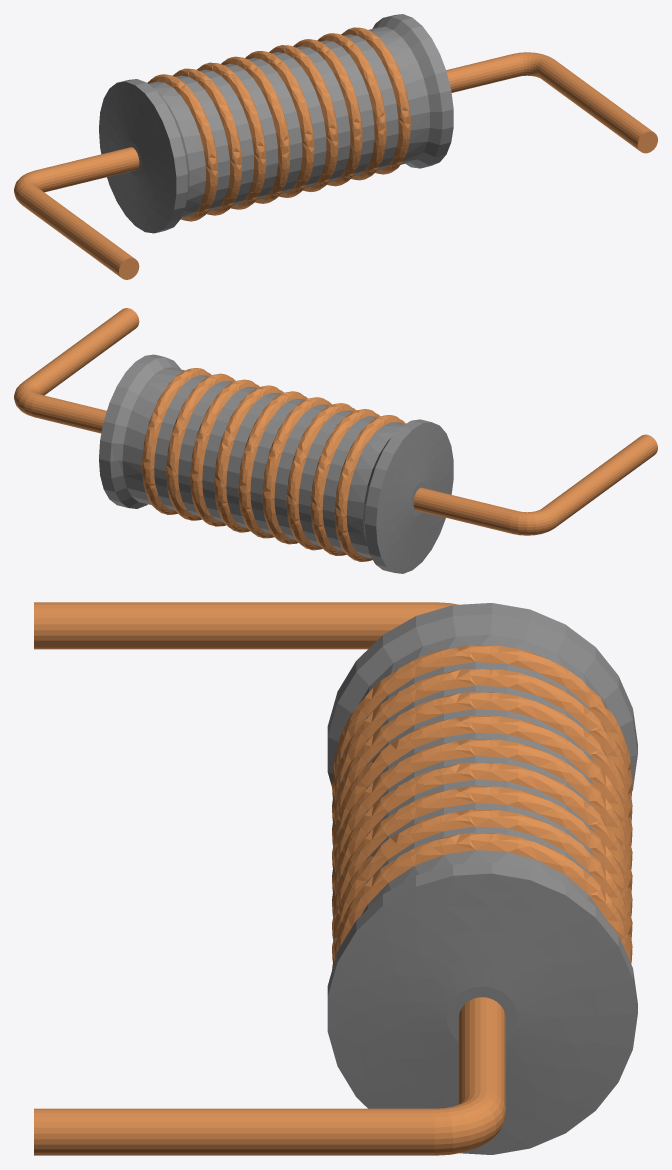
Rendered from L_Axial_L7.0mm_D3.3mm_P12.70mm_Horizontal_Fastron_MICC.glb.
3 views of the same model, one above another, from view 1: azimuth 30°, elevation 25°; view 2: azimuth 150°, elevation 25°; view 3: azimuth 270°, elevation 25° (orthographic). The views are drawn at different scales.
Visible parts, largest first — view 1: Shape_IndexedFaceSet.029, Shape_IndexedFaceSet.008, Shape_IndexedFaceSet.033, Shape_IndexedFaceSet.005, Shape_IndexedFaceSet.031, Shape_IndexedFaceSet.026, Shape_IndexedFaceSet.003, Shape_IndexedFaceSet.011, Shape_IndexedFaceSet.013, Shape_IndexedFaceSet.007, Shape_IndexedFaceSet.015, Shape_IndexedFaceSet.017 (+17 smaller); view 2: Shape_IndexedFaceSet.029, Shape_IndexedFaceSet.033, Shape_IndexedFaceSet.008, Shape_IndexedFaceSet.005, Shape_IndexedFaceSet.031, Shape_IndexedFaceSet.026, Shape_IndexedFaceSet.003, Shape_IndexedFaceSet.011, Shape_IndexedFaceSet.025, Shape_IndexedFaceSet.021, Shape_IndexedFaceSet.019, Shape_IndexedFaceSet.007 (+17 smaller); view 3: Shape_IndexedFaceSet, Shape_IndexedFaceSet.008, Shape_IndexedFaceSet.033, Shape_IndexedFaceSet.027, Shape_IndexedFaceSet.023, Shape_IndexedFaceSet.017, Shape_IndexedFaceSet.015, Shape_IndexedFaceSet.021, Shape_IndexedFaceSet.025, Shape_IndexedFaceSet.019, Shape_IndexedFaceSet.011, Shape_IndexedFaceSet.013 (+16 smaller).
Part boxes in pixels (left/top/right/bottom): Shape_IndexedFaceSet.029: left=99, top=81, right=176, bottom=233; Shape_IndexedFaceSet.008: left=537, top=58, right=652, bottom=150; Shape_IndexedFaceSet.033: left=18, top=184, right=134, bottom=277; Shape_IndexedFaceSet.005: left=369, top=27, right=429, bottom=164; Shape_IndexedFaceSet.031: left=35, top=147, right=139, bottom=192; Shape_IndexedFaceSet.026: left=148, top=81, right=205, bottom=218; Shape_IndexedFaceSet.003: left=372, top=17, right=442, bottom=168; Shape_IndexedFaceSet.011: left=317, top=33, right=386, bottom=180; Shape_IndexedFaceSet.013: left=293, top=39, right=362, bottom=186; Shape_IndexedFaceSet.007: left=341, top=27, right=410, bottom=174; Shape_IndexedFaceSet.015: left=269, top=45, right=338, bottom=191; Shape_IndexedFaceSet.017: left=245, top=51, right=314, bottom=197; Shape_IndexedFaceSet.029: left=376, top=422, right=453, bottom=573; Shape_IndexedFaceSet.033: left=542, top=434, right=657, bottom=526; Shape_IndexedFaceSet.008: left=23, top=308, right=139, bottom=395; Shape_IndexedFaceSet.005: left=122, top=367, right=184, bottom=504; Shape_IndexedFaceSet.031: left=413, top=487, right=516, bottom=533; Shape_IndexedFaceSet.026: left=346, top=422, right=404, bottom=558; Shape_IndexedFaceSet.003: left=110, top=357, right=180, bottom=508; Shape_IndexedFaceSet.011: left=166, top=373, right=235, bottom=520; Shape_IndexedFaceSet.025: left=334, top=415, right=405, bottom=561; Shape_IndexedFaceSet.021: left=286, top=403, right=356, bottom=550; Shape_IndexedFaceSet.019: left=262, top=397, right=331, bottom=544; Shape_IndexedFaceSet.007: left=142, top=368, right=211, bottom=514; Shape_IndexedFaceSet: left=327, top=873, right=637, bottom=1154; Shape_IndexedFaceSet.008: left=34, top=1108, right=434, bottom=1155; Shape_IndexedFaceSet.033: left=34, top=602, right=434, bottom=649; Shape_IndexedFaceSet.027: left=327, top=614, right=637, bottom=791; Shape_IndexedFaceSet.023: left=332, top=668, right=632, bottom=821; Shape_IndexedFaceSet.017: left=332, top=739, right=632, bottom=891; Shape_IndexedFaceSet.015: left=332, top=762, right=632, bottom=917; Shape_IndexedFaceSet.021: left=332, top=692, right=632, bottom=846; Shape_IndexedFaceSet.025: left=332, top=645, right=632, bottom=797; Shape_IndexedFaceSet.019: left=332, top=715, right=632, bottom=869; Shape_IndexedFaceSet.011: left=332, top=809, right=632, bottom=963; Shape_IndexedFaceSet.013: left=332, top=786, right=632, bottom=940.
Size of the model in its own units: 5.2 by 1.3 by 2.52.
